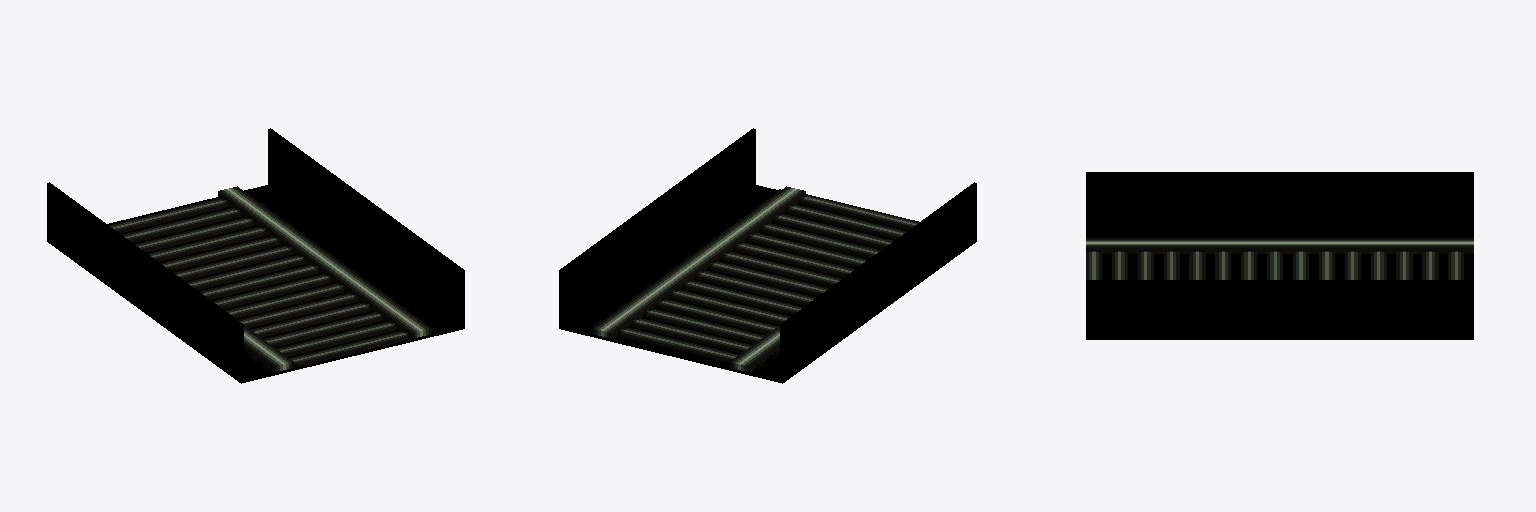
The picture shows the model from 3 angles: view 1: azimuth 30°, elevation 25°; view 2: azimuth 150°, elevation 25°; view 3: azimuth 270°, elevation 25°; orthographic projection.
Visible parts, largest first — view 1: SubwayTracks; view 2: SubwayTracks; view 3: SubwayTracks.
Boxes of the visible parts, x1=… form: SubwayTracks: x1=47, y1=128, x2=464, y2=383; SubwayTracks: x1=559, y1=128, x2=976, y2=383; SubwayTracks: x1=1086, y1=172, x2=1473, y2=339.
Size of the model in its own units: 8 by 2 by 12.
1 materials, 1 textured.